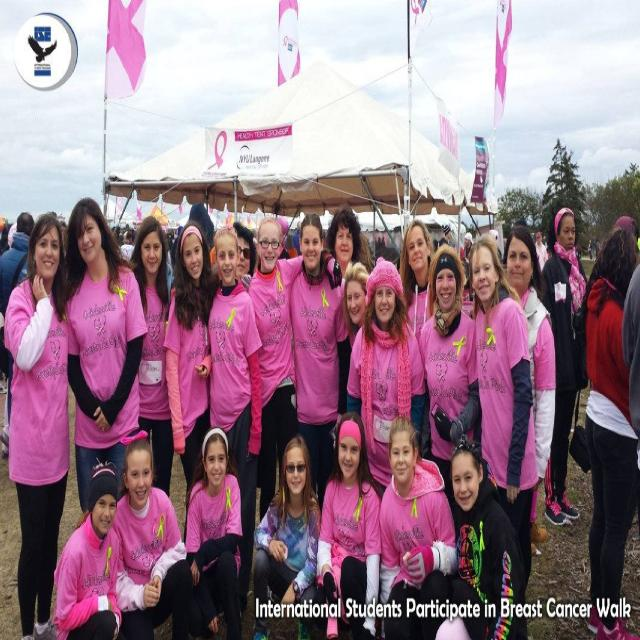body: (0, 204, 551, 287), (240, 211, 352, 512), (239, 213, 343, 525), (62, 194, 150, 528), (2, 208, 68, 640), (466, 235, 541, 593), (580, 223, 640, 637), (207, 222, 264, 620), (430, 432, 528, 640), (345, 254, 427, 502), (377, 414, 458, 639), (111, 427, 192, 640), (418, 240, 483, 493), (162, 218, 211, 548), (345, 254, 409, 503), (179, 422, 251, 639), (124, 214, 178, 503), (541, 204, 589, 528), (501, 223, 558, 494), (316, 410, 382, 640), (251, 431, 322, 640), (47, 456, 128, 639), (0, 209, 37, 428), (618, 256, 640, 536), (396, 215, 436, 347), (320, 206, 363, 290), (0, 286, 18, 464), (607, 206, 640, 249), (527, 510, 550, 561), (574, 232, 602, 265)
